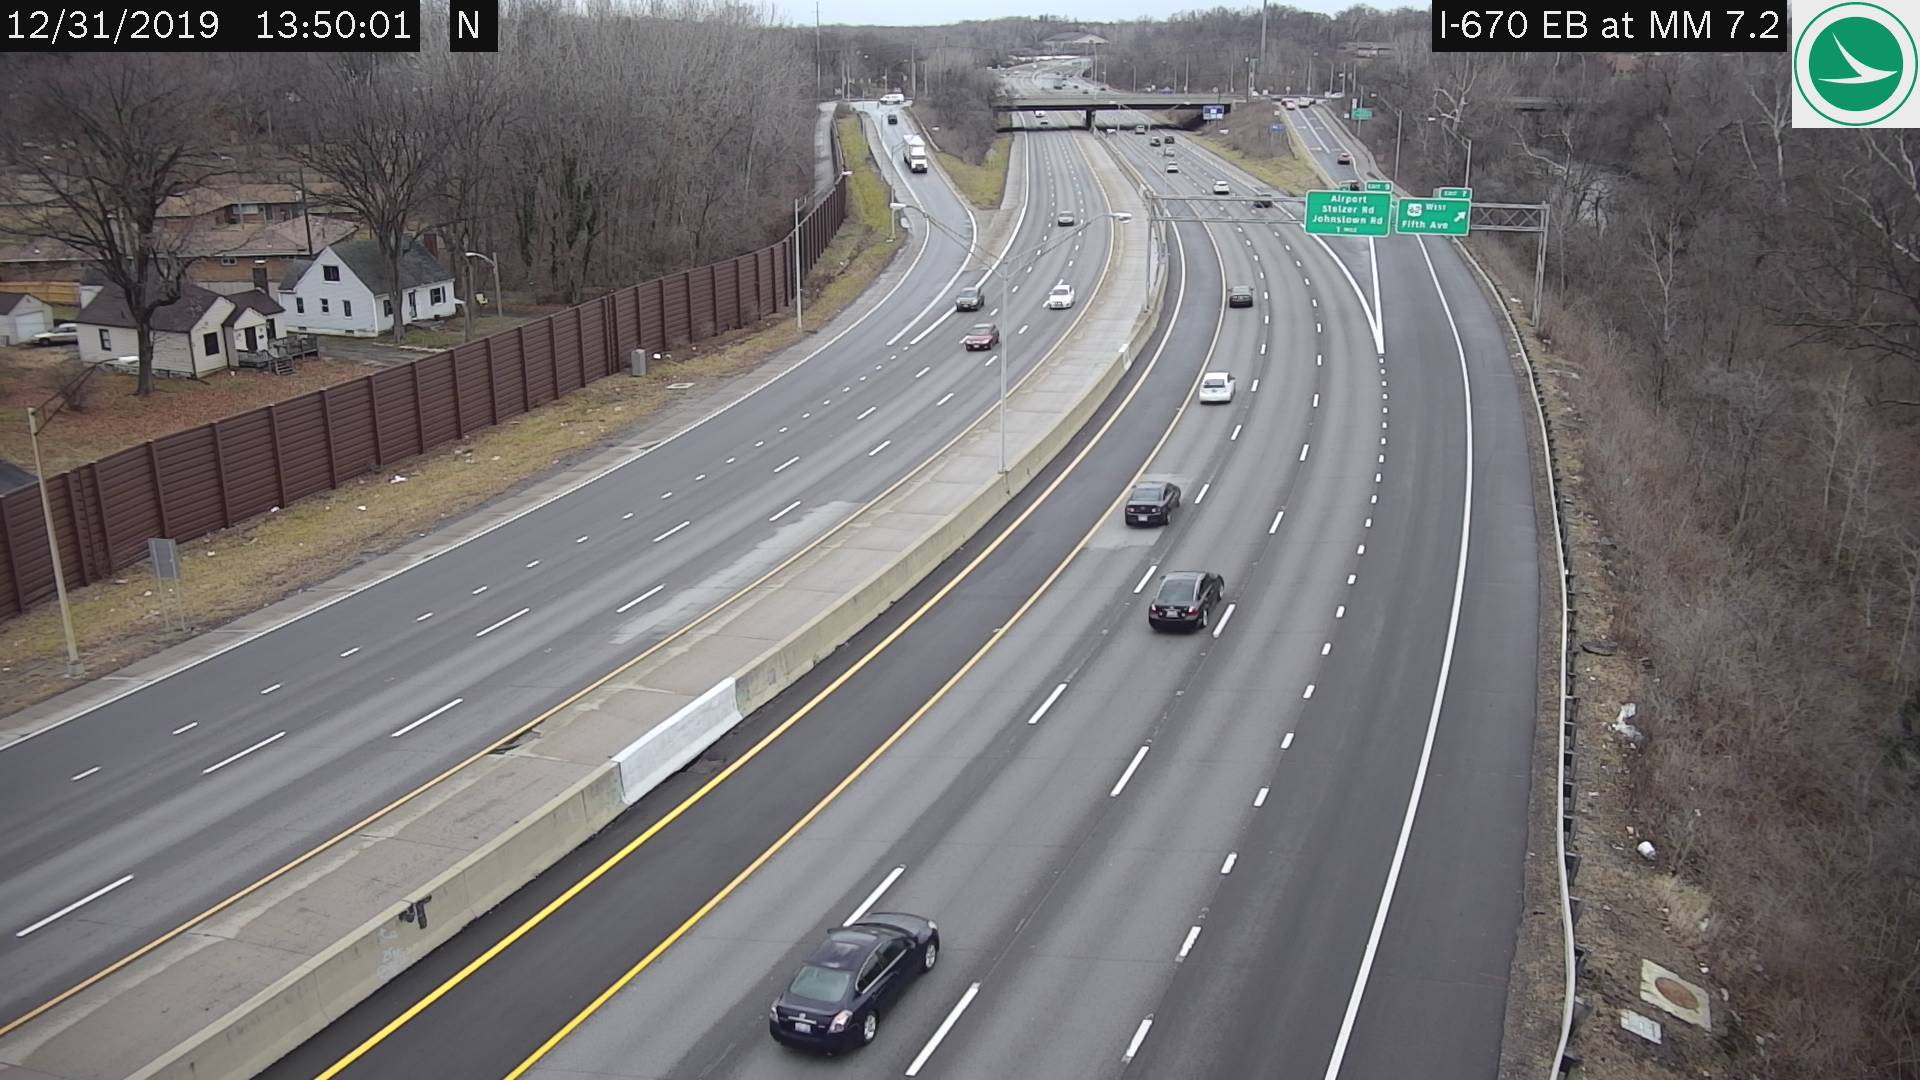car: (770, 909, 938, 1052), (1150, 568, 1222, 628), (1126, 476, 1178, 524), (1197, 368, 1230, 404), (901, 132, 926, 175), (967, 320, 998, 352), (953, 285, 982, 310), (1046, 282, 1073, 307), (1230, 284, 1254, 309), (1255, 190, 1276, 204), (1058, 210, 1072, 227), (1213, 179, 1228, 193)
